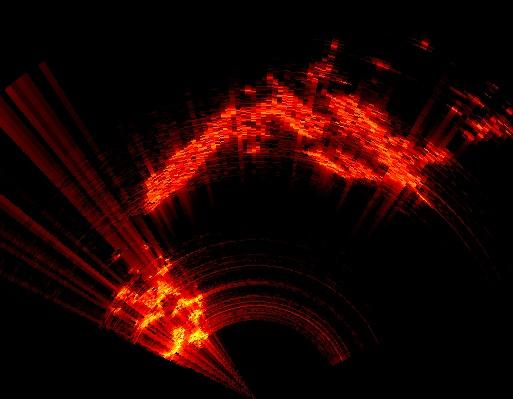shipwreck: (142, 74, 332, 214), (303, 95, 448, 189), (114, 259, 208, 359)
